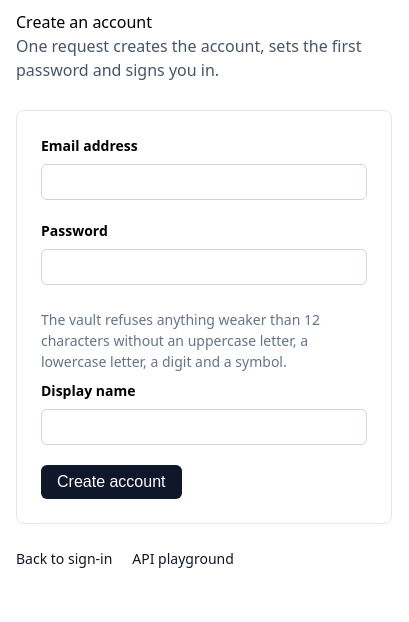
Test: Register › shows the refusal the endpoint reports, and signs nobody in
The width and height of the screenshot is (409, 622).
Type "taken@example.test" into the field labelled "Email address".
click(204, 182); type("taken@example.test")  # box [41,164,367,200]
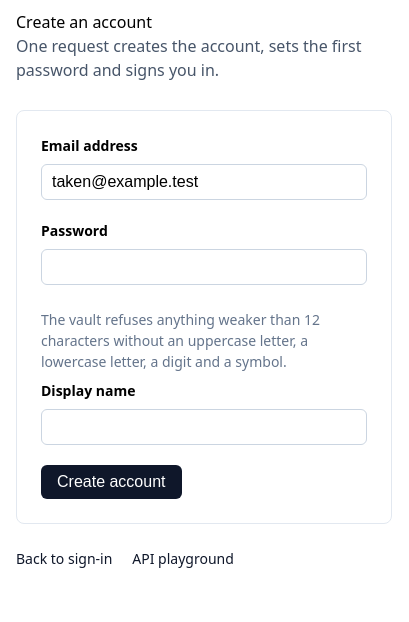
Type "Str0ng-Passw0rd!x" into the password field labelled "Password".
click(204, 267); type("Str0ng-Passw0rd!x")  # box [41,249,367,285]
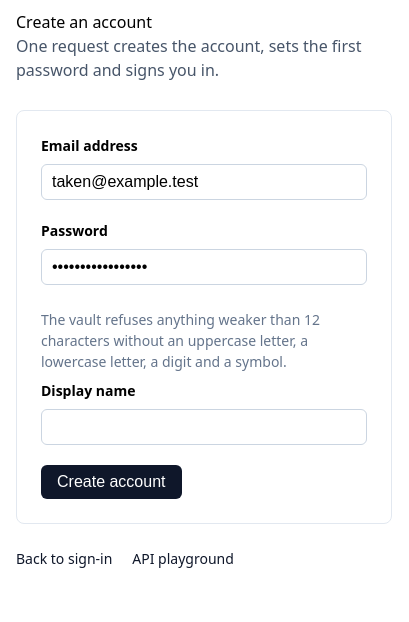
Submit the form
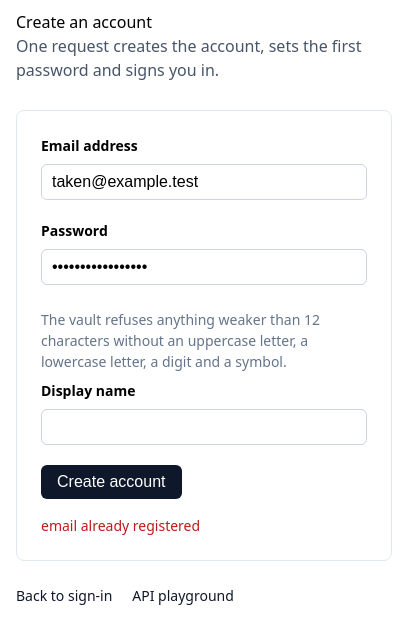
Now the message reads "email already registered", box [41,516,200,535]
